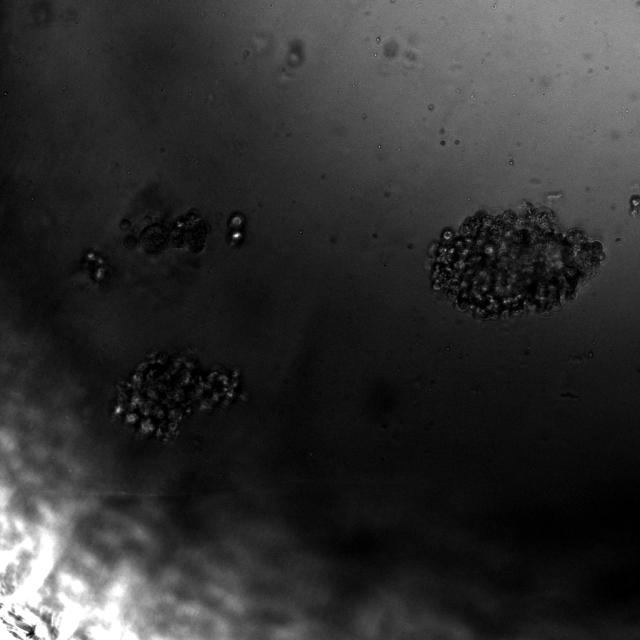organoid: (428, 202, 606, 319), (113, 352, 239, 441), (119, 210, 208, 255), (81, 249, 109, 284), (227, 211, 245, 246), (629, 194, 639, 217)
